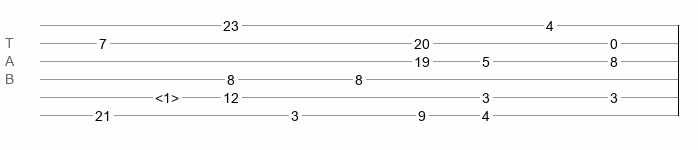0: (610, 36, 618, 46)
12: (223, 90, 239, 100)
19: (414, 54, 430, 64)
20: (414, 36, 430, 46)
21: (95, 108, 111, 118)
23: (223, 18, 239, 28)
3: (291, 108, 299, 118), (482, 90, 490, 100), (610, 90, 618, 100)
4: (482, 108, 490, 118), (546, 18, 554, 28)
5: (482, 54, 490, 64)
7: (99, 36, 107, 46)
8: (227, 72, 235, 82), (355, 72, 363, 82), (610, 54, 618, 64)
9: (418, 108, 426, 118)
harmonic: (155, 90, 179, 100)
